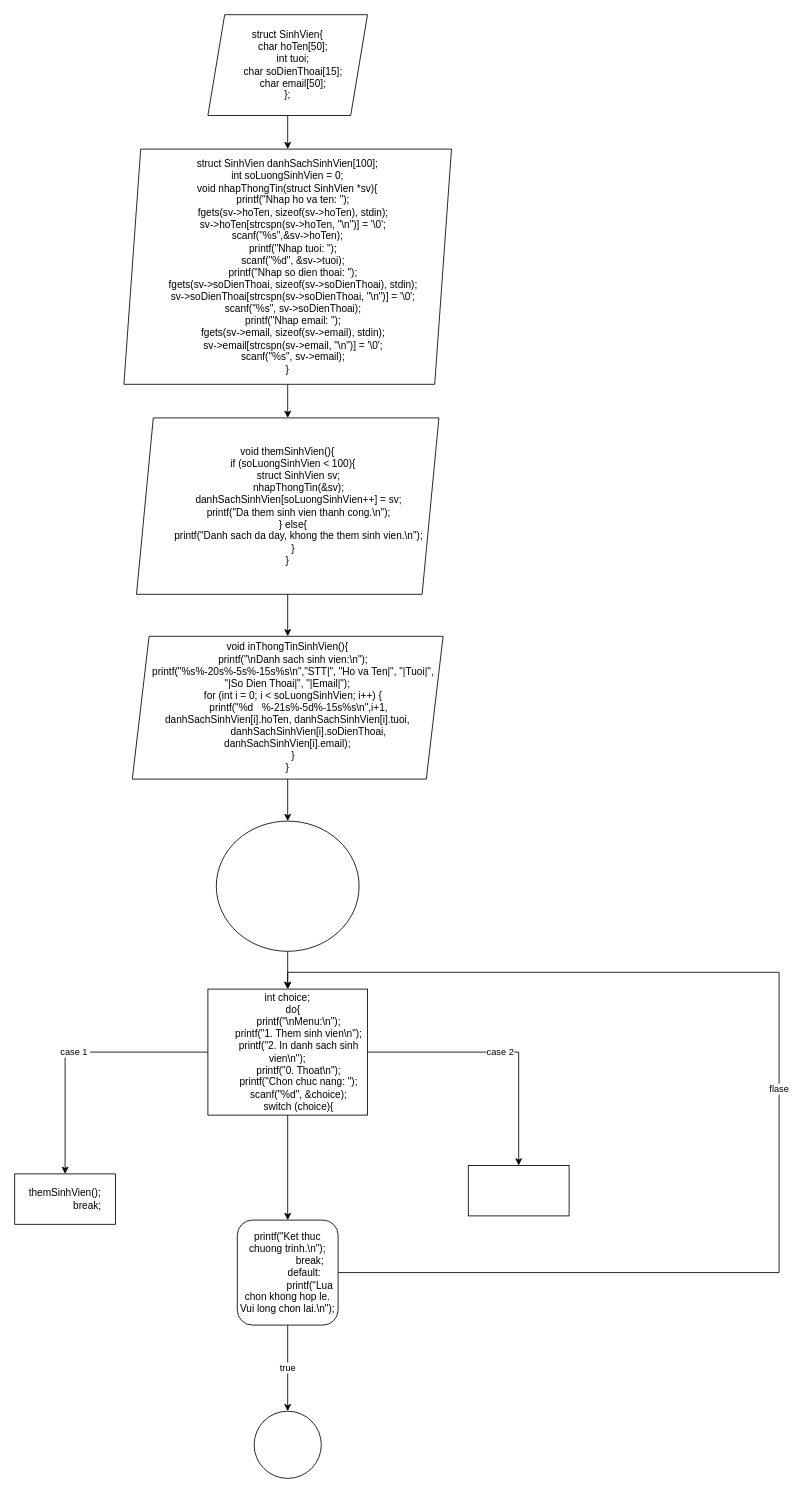
This 803x1494 diagram has some shape labels left out. The shapes that lost their labels are listed below. From the top down, each one's box as (x1, y1, x2, y2) in pixels, then its label:
(215, 820, 359, 951): start
(467, 1165, 569, 1216): inThongTinSinhVien(); break;
(253, 1410, 321, 1478): end
